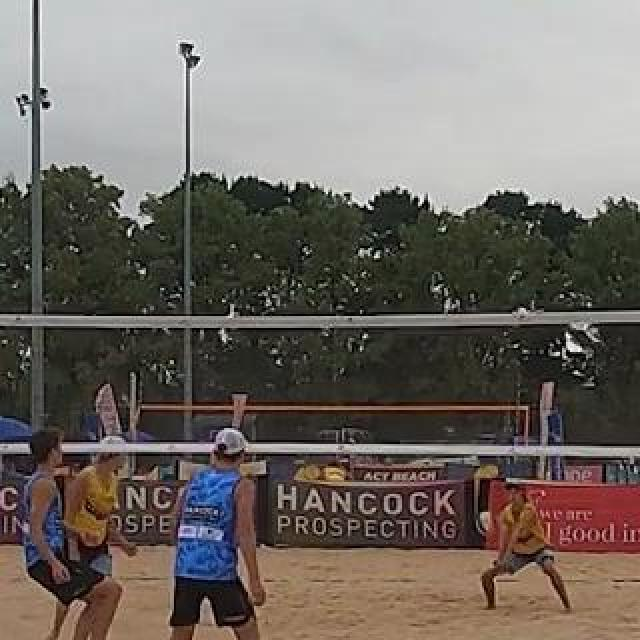volleyball: (475, 508, 501, 534)
